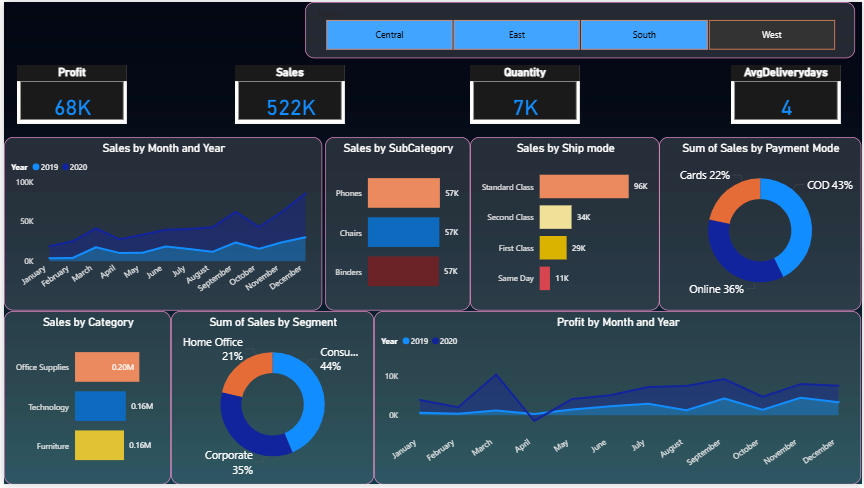

The page's visual inventory and layout, read from the dashboard file:
{"tool":"powerbi","page":{"name":"Page 1","canvas":[1280,720],"ordinal":0},"visuals":[{"type":"clusteredBarChart","title":"Sales by Category","fields":{"Category":["SuperStore_Sales_Dataset.Category"],"Y":["Sum(SuperStore_Sales_Dataset.Sales)"]},"box":[0,460.6,249.4,259.4],"z":0},{"type":"clusteredBarChart","title":"Sales by Ship mode","fields":{"Category":["SuperStore_Sales_Dataset.Ship Mode"],"Y":["Sum(SuperStore_Sales_Dataset.Sales)"]},"box":[695.9,201.3,283.5,259.4],"z":1000},{"type":"clusteredBarChart","title":"Sales by SubCategory","fields":{"Category":["SuperStore_Sales_Dataset.Sub-Category"],"Y":["Sum(SuperStore_Sales_Dataset.Sales)"]},"box":[479.1,201.3,216.9,259.4],"z":2000},{"type":"stackedAreaChart","title":"Sales by Month and Year","fields":{"Category":["SuperStore_Sales_Dataset.Order Date.Variation.Date Hierarchy.Month","SuperStore_Sales_Dataset.Order Date.Variation.Date Hierarchy.Day"],"Y":["Sum(SuperStore_Sales_Dataset.Sales)"],"Series":["SuperStore_Sales_Dataset.Order Date.Variation.Date Hierarchy.Year"]},"box":[0,201.3,474.8,259.4],"z":3000},{"type":"stackedAreaChart","title":"Profit by Month and Year","fields":{"Category":["SuperStore_Sales_Dataset.Order Date.Variation.Date Hierarchy.Month","SuperStore_Sales_Dataset.Order Date.Variation.Date Hierarchy.Day"],"Series":["SuperStore_Sales_Dataset.Order Date.Variation.Date Hierarchy.Year"],"Y":["Sum(SuperStore_Sales_Dataset.Profit)"]},"box":[552.8,460.6,727.1,259.4],"z":4000},{"type":"donutChart","fields":{"Category":["SuperStore_Sales_Dataset.Segment"],"Y":["Sum(SuperStore_Sales_Dataset.Sales)"]},"box":[249.4,460.6,303.3,259.4],"z":5000},{"type":"donutChart","fields":{"Category":["SuperStore_Sales_Dataset.Payment Mode"],"Y":["Sum(SuperStore_Sales_Dataset.Sales)"]},"box":[978,201.3,301.9,259.4],"z":6000},{"type":"slicer","fields":{"Values":["SuperStore_Sales_Dataset.Region"]},"box":[449.2,0,820.7,83.5],"z":7000},{"type":"textbox","box":[0,0,449.2,83.5],"z":8000},{"type":"cardVisual","title":"Sales","fields":{"Data":["Sum(SuperStore_Sales_Dataset.Sales)"]},"box":[344.1,93.6,164.1,87.8],"z":9000},{"type":"cardVisual","title":"Quantity","fields":{"Data":["Sum(SuperStore_Sales_Dataset.Quantity)"]},"box":[695.4,93.6,164.1,87.8],"z":10000},{"type":"cardVisual","title":"AvgDeliverydays","fields":{"Data":["Avg(SuperStore_Sales_Dataset.AvgDelivery)"]},"box":[1085.6,93.6,164.1,87.8],"z":11000},{"type":"cardVisual","title":"Profit","fields":{"Data":["Sum(SuperStore_Sales_Dataset.Profit)"]},"box":[18.7,93.6,164.1,87.8],"z":12000}]}

Visuals, with their boxes in screenshot pixels (x1, y1, x2, y2), scaled from the page's 1280x720 canvas onto the 864x488 screenshot:
"Sales by Category" clusteredBarChart: 0:312:168:487
"Sales by Ship mode" clusteredBarChart: 470:136:661:312
"Sales by SubCategory" clusteredBarChart: 323:136:470:312
"Sales by Month and Year" stackedAreaChart: 0:136:320:312
"Profit by Month and Year" stackedAreaChart: 373:312:863:487
donutChart - SuperStore_Sales_Dataset.Segment x Sum(SuperStore_Sales_Dataset.Sales): 168:312:373:487
donutChart - SuperStore_Sales_Dataset.Payment Mode x Sum(SuperStore_Sales_Dataset.Sales): 660:136:863:312
slicer - SuperStore_Sales_Dataset.Region: 303:0:857:57
textbox: 0:0:303:57
"Sales" cardVisual: 232:63:343:123
"Quantity" cardVisual: 469:63:580:123
"AvgDeliverydays" cardVisual: 733:63:844:123
"Profit" cardVisual: 13:63:123:123
